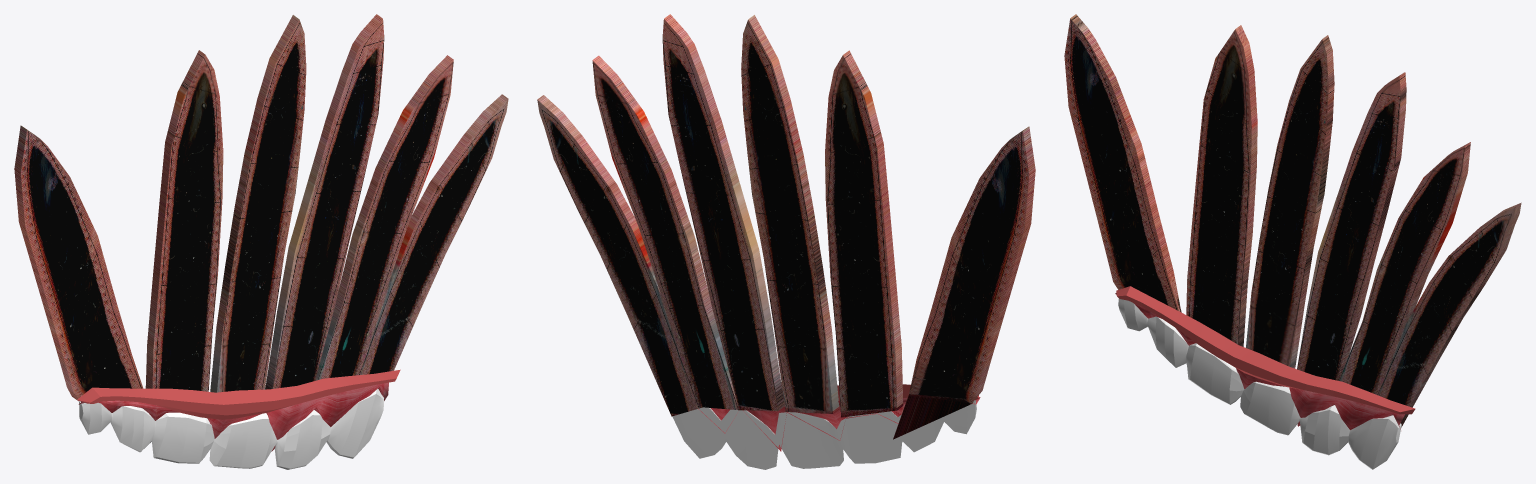
The model's file is teeth.fbx.
3 renders of one model, left to right at view 1: azimuth 30°, elevation 25°; view 2: azimuth 150°, elevation 25°; view 3: azimuth 330°, elevation 25°, orthographic. The views are drawn at different scales.
Visible parts, largest first — view 1: pPlane1, pPlane4, pPlane2, pPlane3; view 2: pPlane1, pPlane4, pPlane3; view 3: pPlane1, pPlane4, pPlane2, pPlane3.
Part boxes in pixels (box(x1,y1,x2,y2)): pPlane1: box(14, 14, 508, 401); pPlane4: box(79, 389, 383, 469); pPlane2: box(77, 369, 400, 419); pPlane3: box(78, 382, 388, 451); pPlane1: box(537, 14, 1035, 439); pPlane4: box(672, 400, 976, 469); pPlane3: box(698, 397, 980, 451); pPlane1: box(1064, 14, 1521, 427); pPlane4: box(1118, 298, 1401, 469); pPlane2: box(1116, 286, 1415, 414); pPlane3: box(1115, 293, 1404, 429).
Size of the model in its own units: 8.85 by 7.86 by 0.5132.
Materials: 4 (2 with a texture image).
